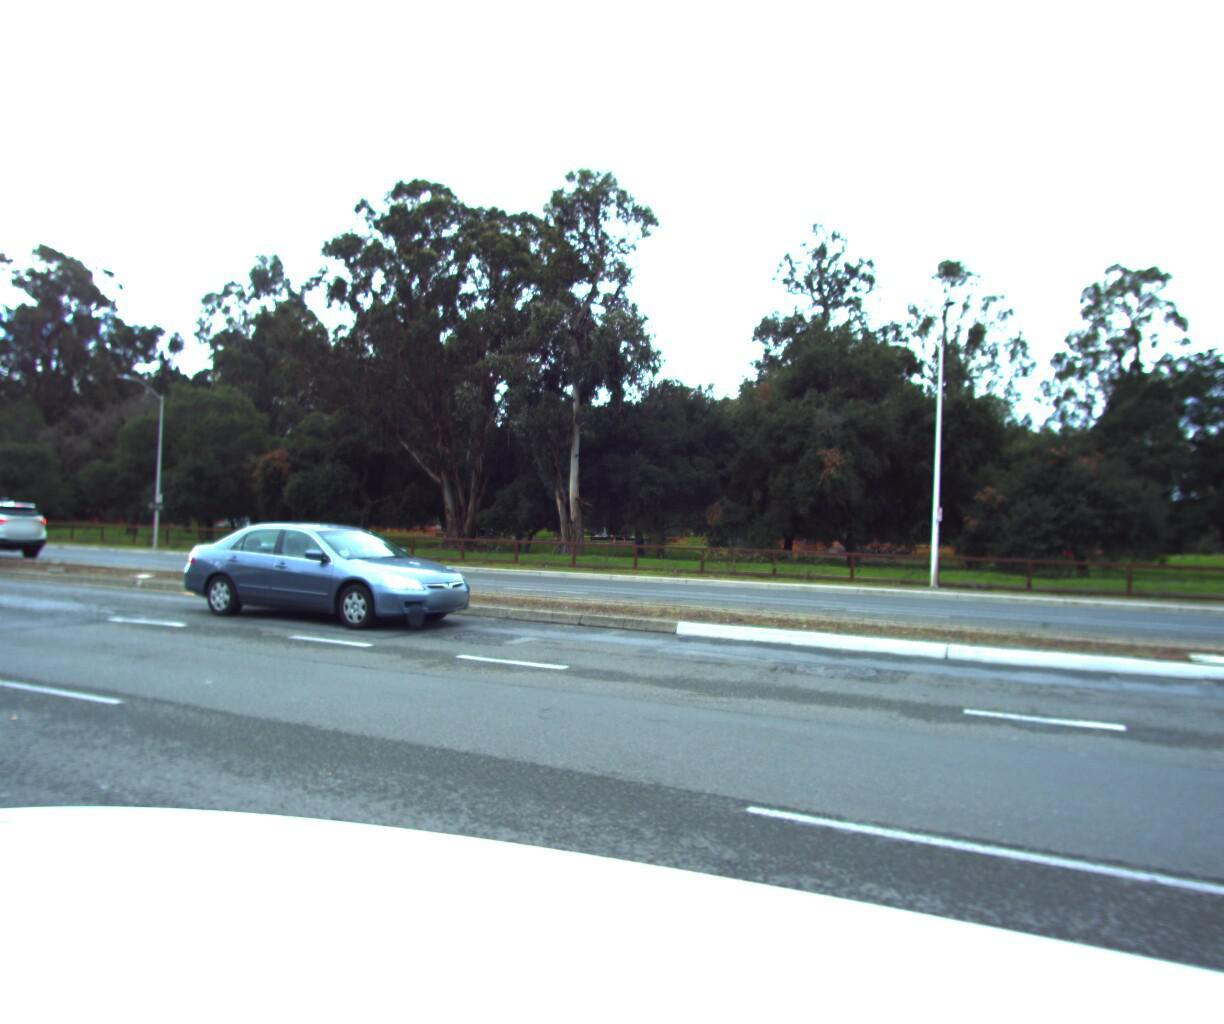car: (176, 507, 492, 636), (0, 486, 54, 554)
